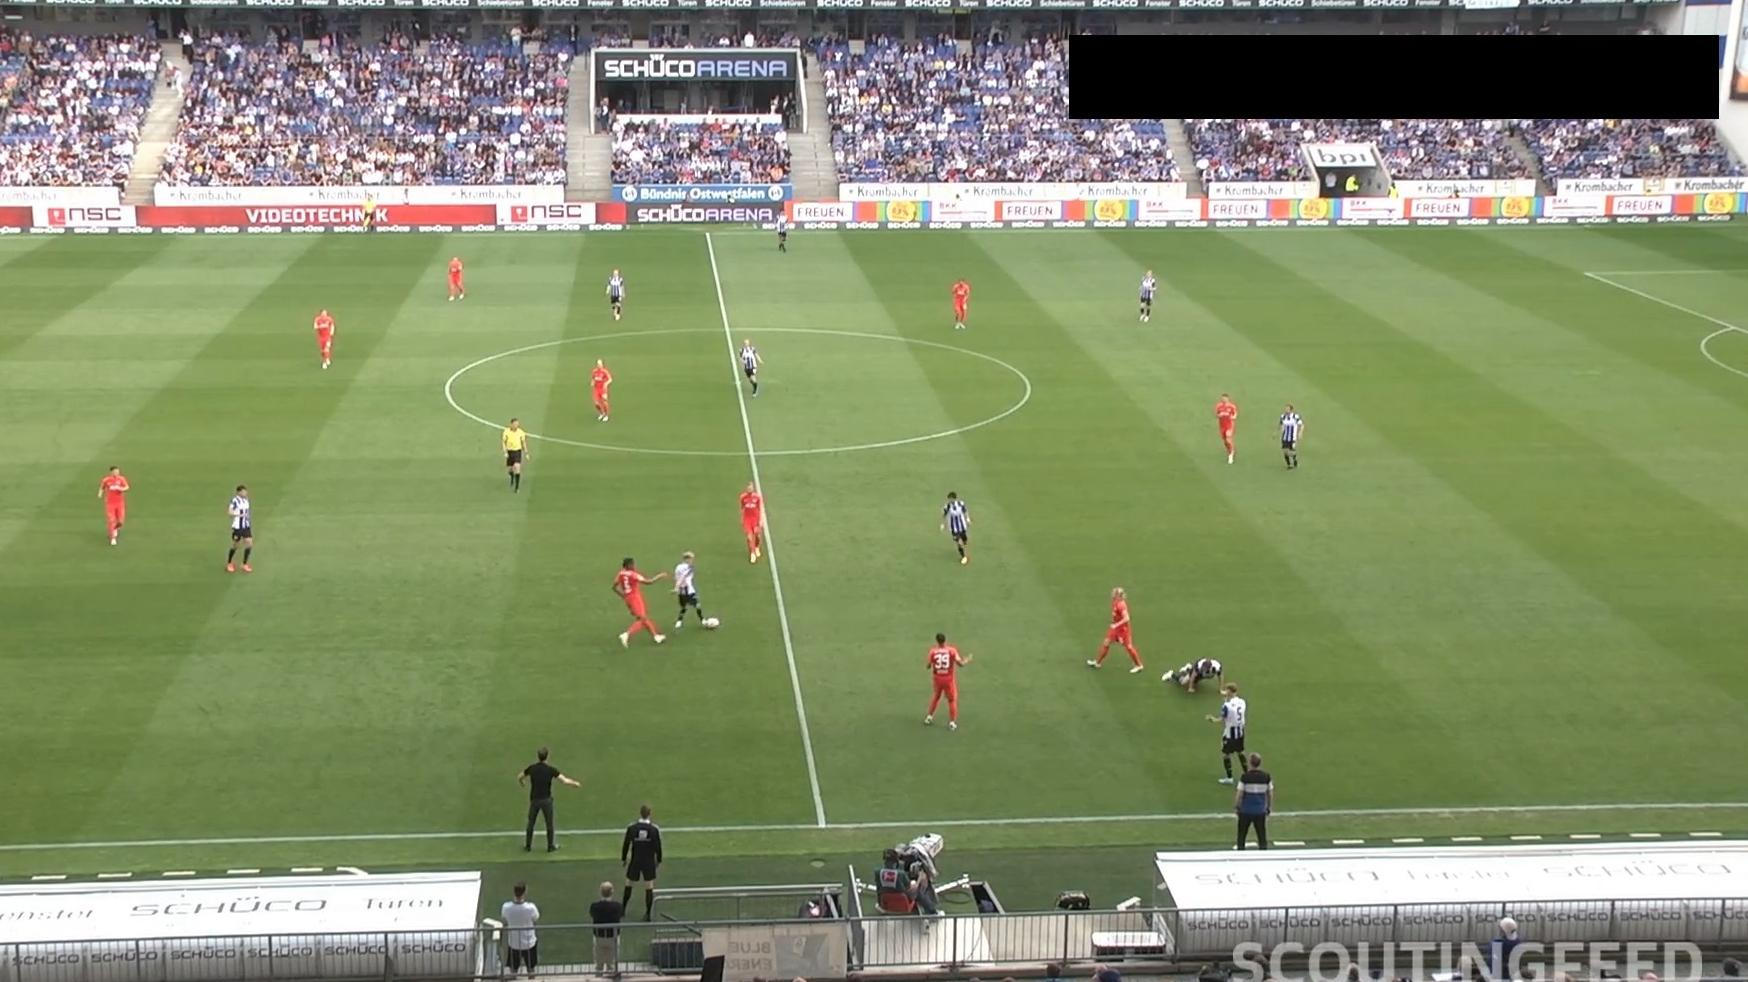ball: (704, 615, 720, 629)
